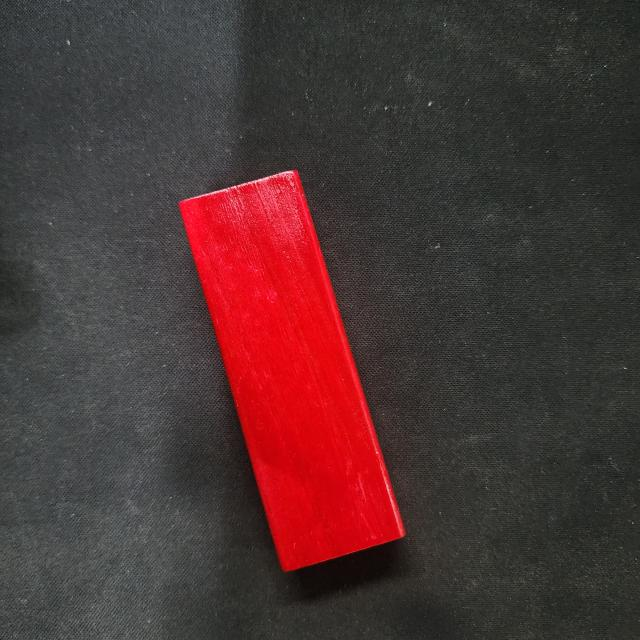red: (174, 166, 407, 572)
